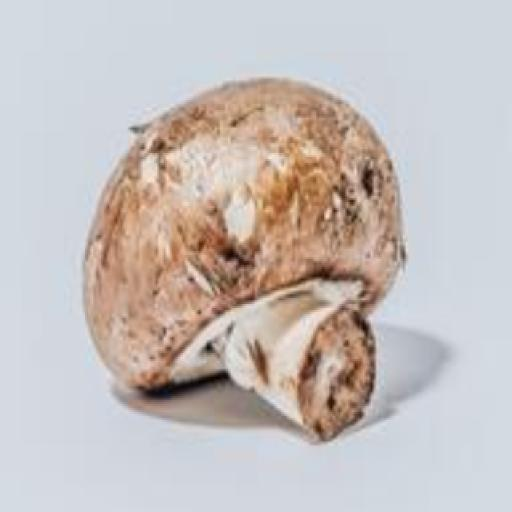Button Mushroom: (78, 67, 420, 453)
